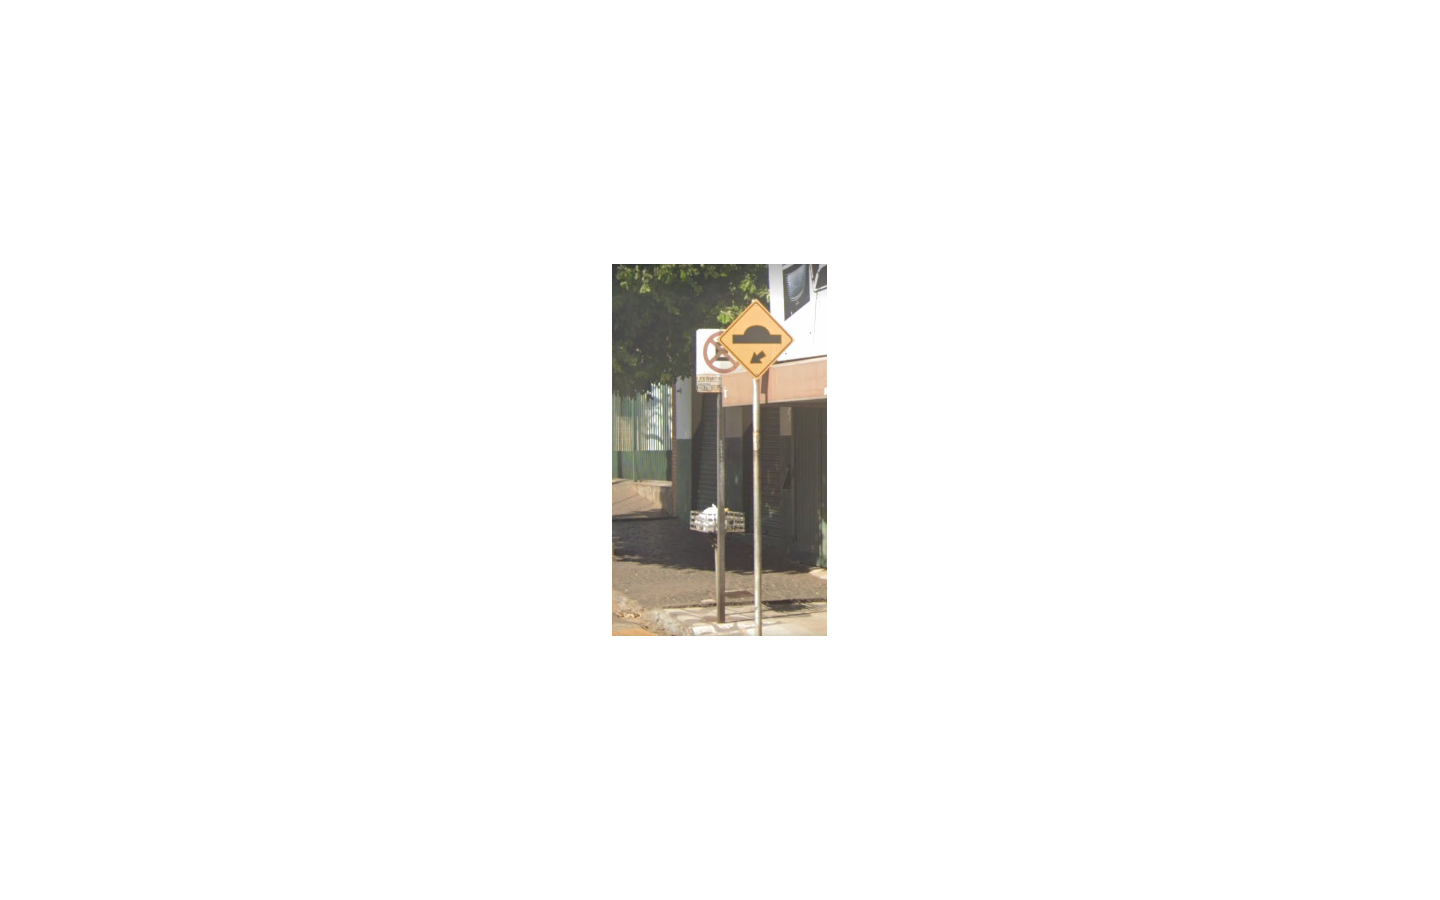lomb: (719, 300, 794, 378)
